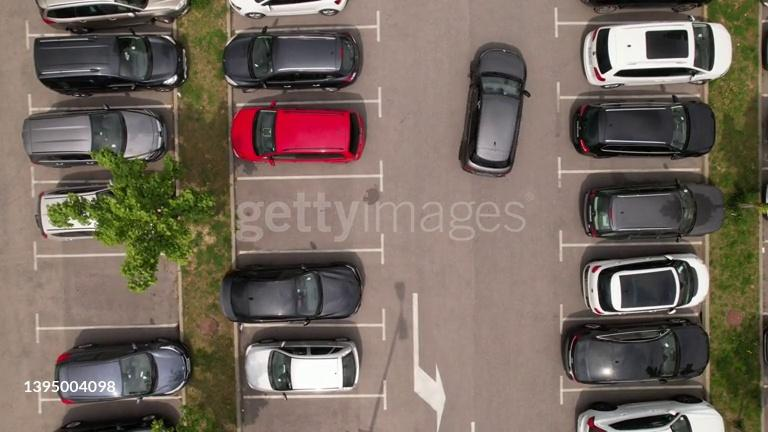car: (582, 18, 732, 87), (33, 32, 185, 96), (458, 44, 528, 175), (564, 321, 709, 383), (53, 339, 191, 404), (23, 107, 169, 166), (220, 262, 363, 322), (222, 29, 360, 91), (581, 179, 723, 239), (573, 99, 716, 158), (232, 105, 368, 165), (581, 252, 710, 314), (244, 338, 360, 393), (574, 395, 725, 430), (35, 0, 187, 31), (35, 183, 116, 238), (226, 0, 347, 20), (54, 413, 172, 432), (579, 0, 712, 13)
